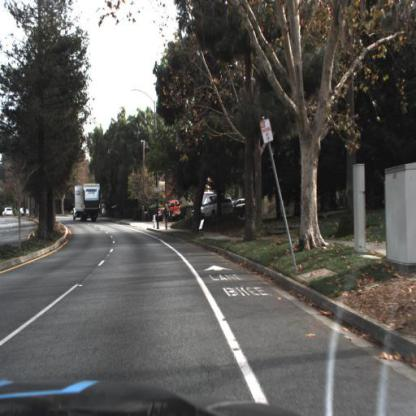car: (201, 194, 233, 215), (155, 197, 180, 219)
pedestrian: (163, 200, 173, 233), (163, 204, 172, 231)
truck: (73, 182, 101, 224)
